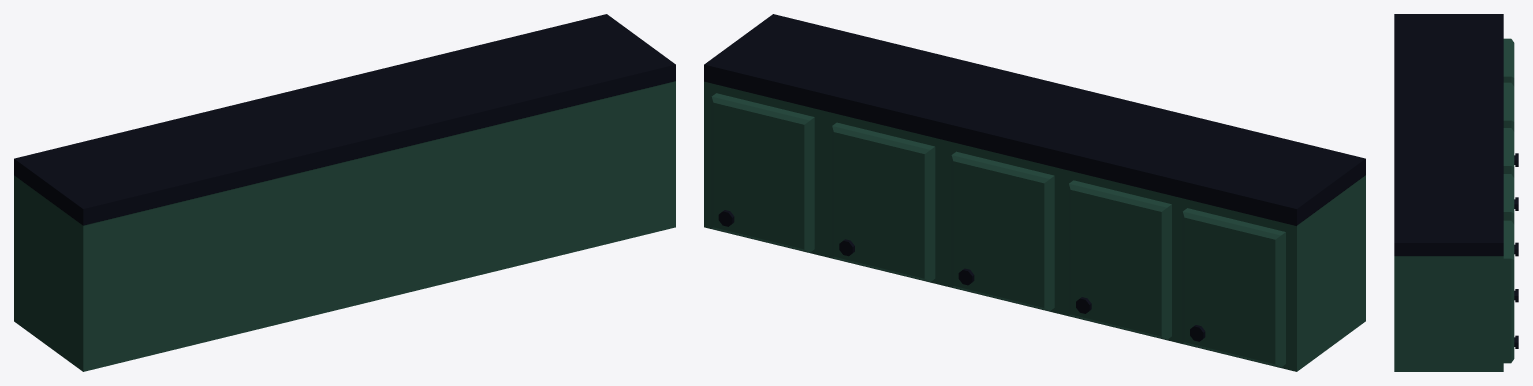
Rendered from labCupboards.fbx.
The picture shows the model from 3 angles, left to right: view 1: azimuth 30°, elevation 25°; view 2: azimuth 150°, elevation 25°; view 3: azimuth 270°, elevation 25°; orthographic projection. The views are drawn at different scales.
Parts seen in each view (by area): view 1: Cube; view 2: Cube; view 3: Cube.
Part boxes in pixels (x1,y1,x2,y2): Cube: (14, 14, 675, 371); Cube: (704, 14, 1365, 371); Cube: (1394, 14, 1518, 371).
Bounding box in the file's own units: 390 × 102 × 89.42.
